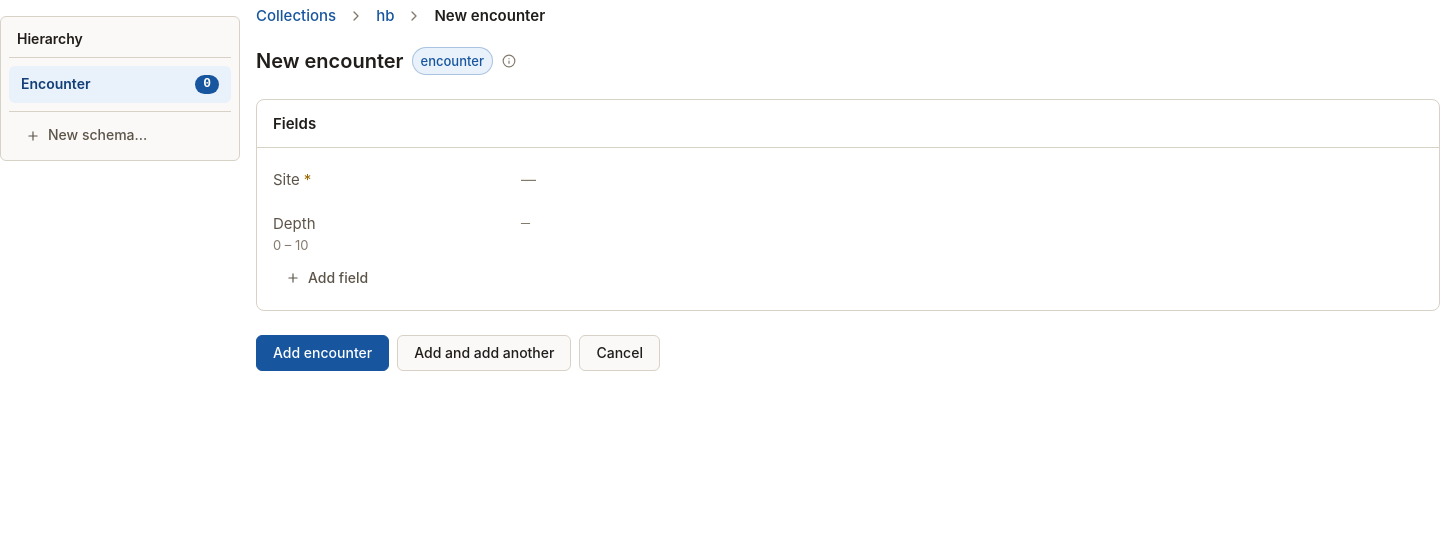
Test: NewRecordPage › adds a field in place, as the last row of the form
The image size is (1440, 559).
Step 1. Click the button "Add field" → [327, 278], box [273, 262, 381, 294]
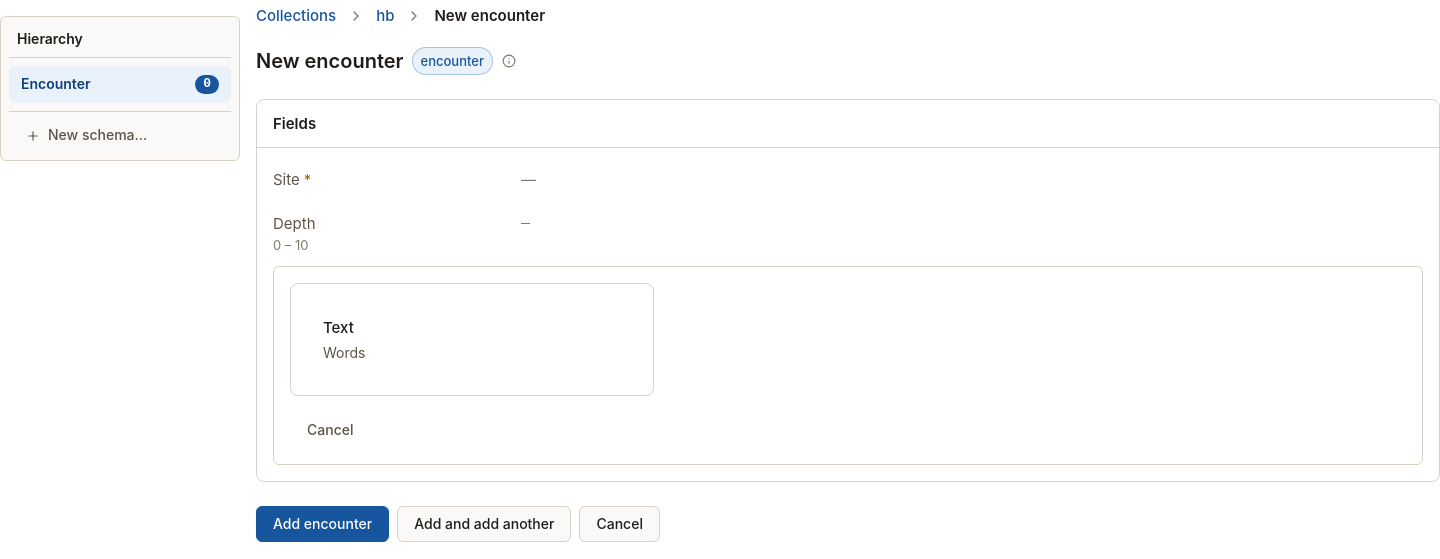
Expected: the text "Text" is shown, [323, 318, 354, 337]
